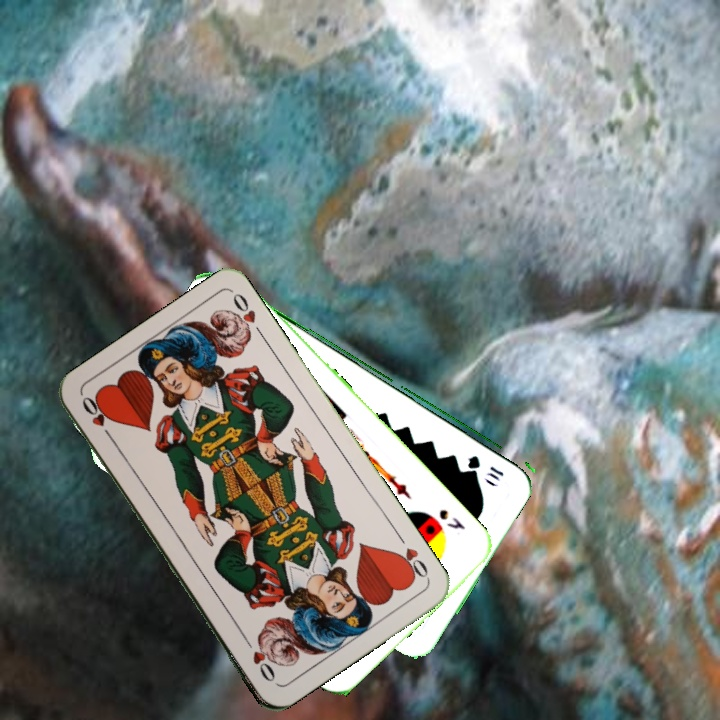G10: (464, 451, 507, 483)
HO: (391, 529, 432, 583), (77, 392, 117, 444)
SK: (434, 505, 468, 532)
